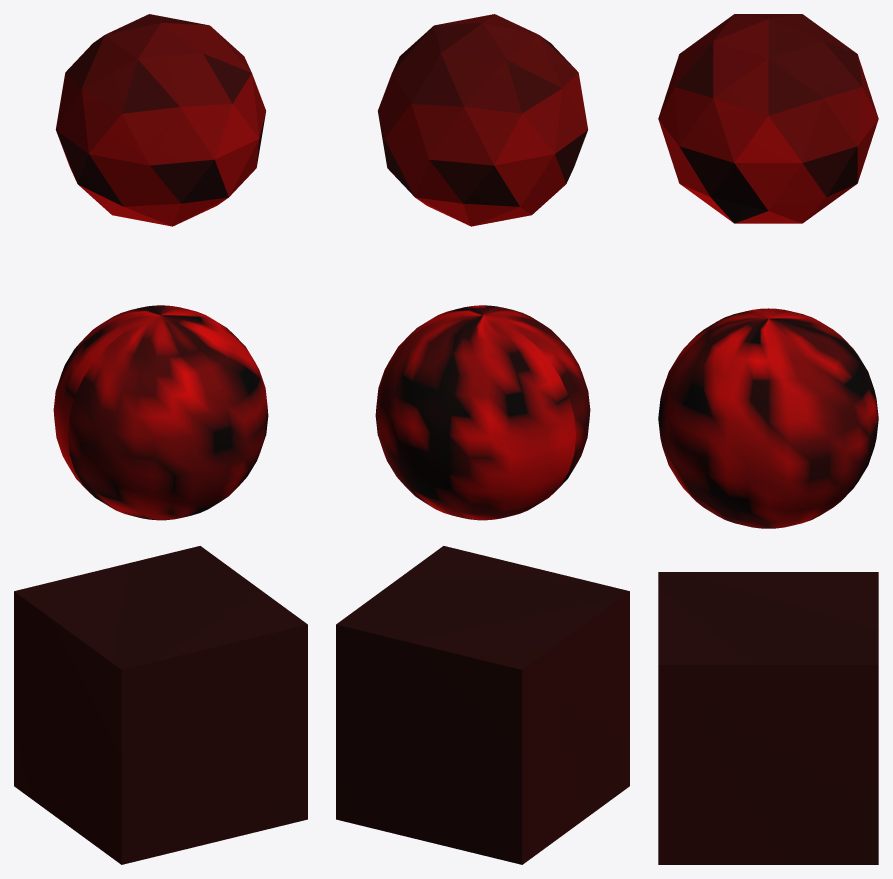
3 views of the same model, side by side, from view 1: azimuth 30°, elevation 25°; view 2: azimuth 150°, elevation 25°; view 3: azimuth 270°, elevation 25° (orthographic). The views are drawn at different scales.
Visible parts, largest first — view 1: U_Char; view 2: U_Char; view 3: U_Char.
Boxes of the visible parts, x1,y1,x2,y2 form: U_Char: (14, 14, 307, 864); U_Char: (336, 14, 629, 864); U_Char: (658, 14, 878, 864).
Bounding box in the file's own units: 200 × 800 × 200.
